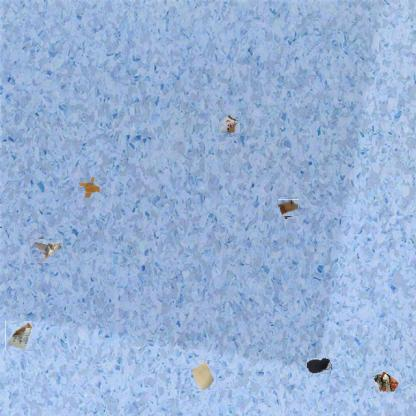dirty: (190, 360, 216, 392), (5, 321, 32, 351), (32, 237, 60, 265), (373, 370, 401, 394), (218, 114, 240, 137), (279, 198, 298, 218)
liquid: (307, 358, 331, 374), (81, 179, 97, 195)
